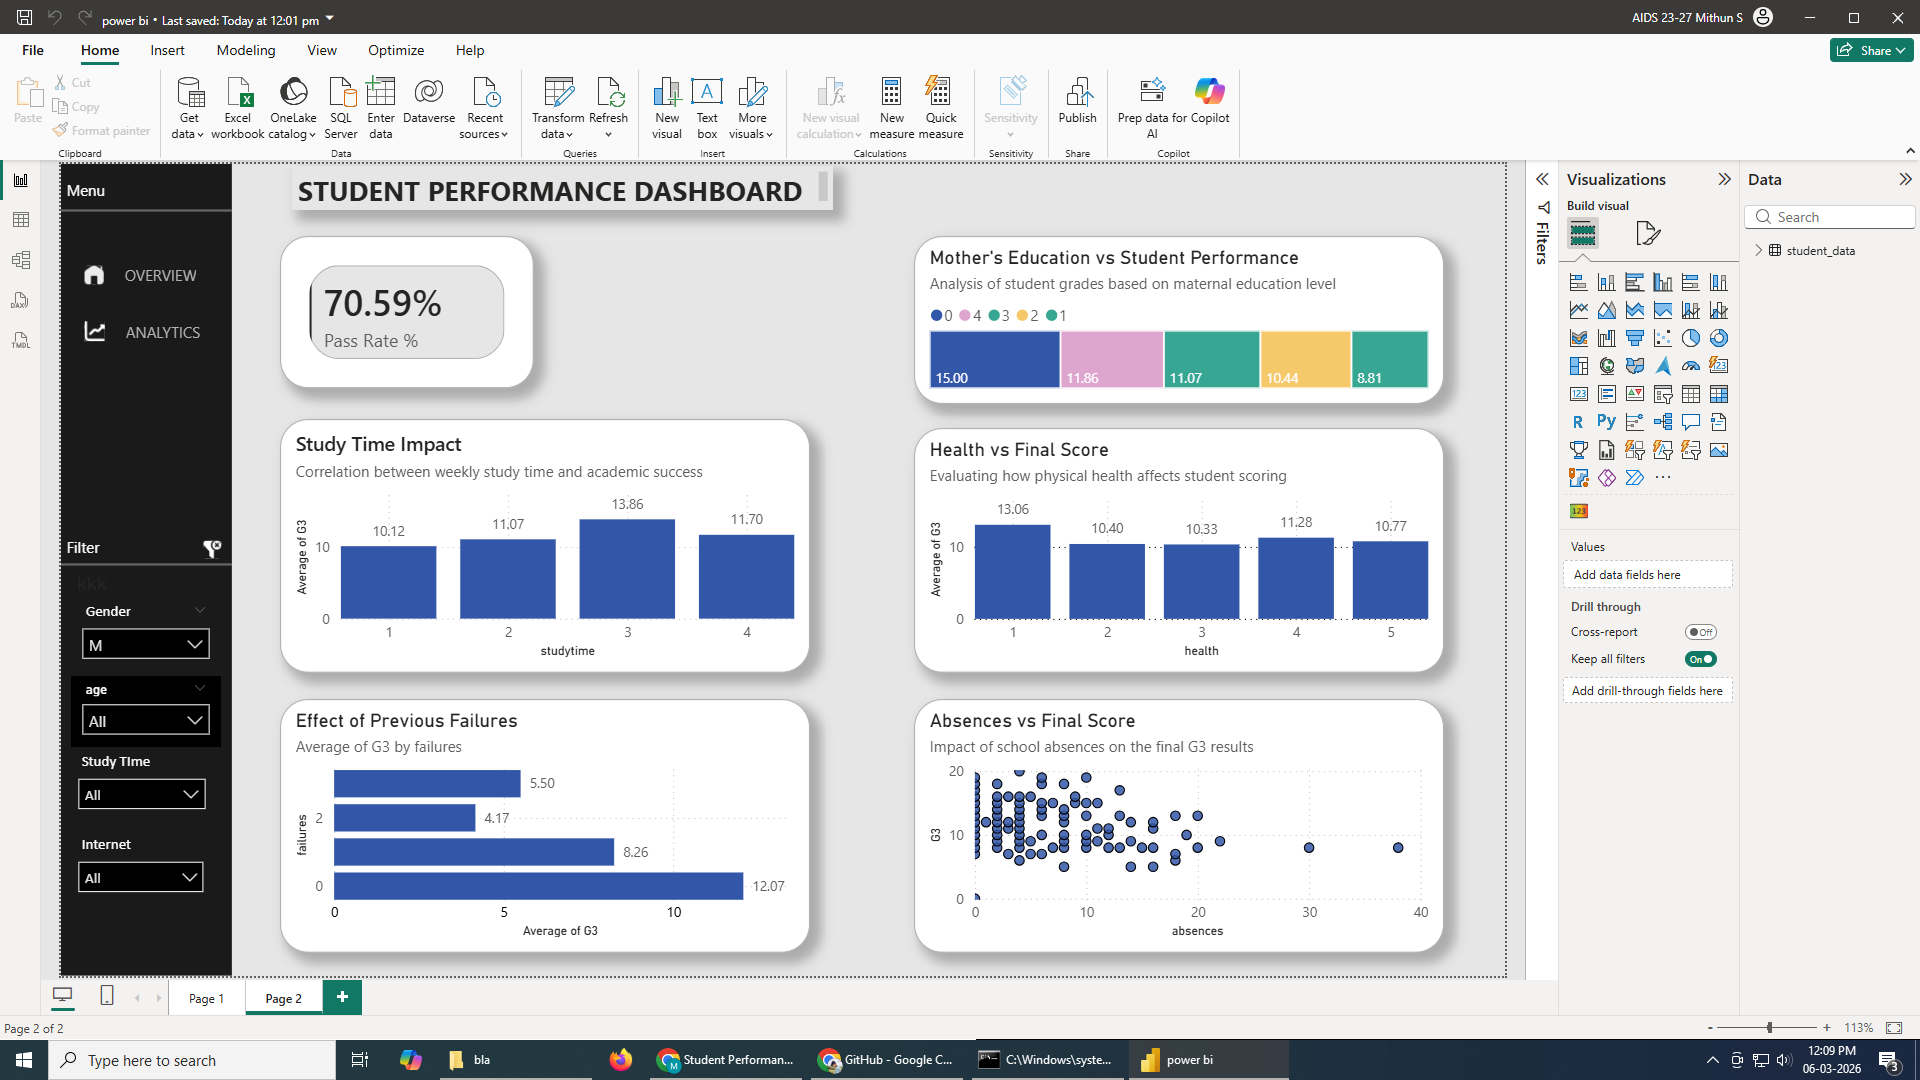

The dashboard page shown, as its layout file describes it:
{"tool":"powerbi","page":{"name":"Page 2","canvas":[1280,720],"ordinal":1},"visuals":[{"type":"textbox","box":[204.8,1.8,479.7,39],"z":0},{"type":"actionButton","box":[9,79,150.2,38.5],"z":0,"group":"g1"},{"type":"slicer","title":"kkk","fields":{"Values":["student_data.sex"]},"box":[8.5,361.8,132.6,93.6],"z":0,"group":"g2"},{"type":"shape","box":[0,0,151.5,719.7],"z":1000},{"type":"actionButton","box":[16.8,131.5,139.3,34.5],"z":1000,"group":"g1"},{"type":"slicer","fields":{"Values":["student_data.age"]},"box":[8.4,454.2,132.6,63.5],"z":1000,"group":"g2"},{"type":"actionButton","box":[92.5,321.9,62.4,40.1],"z":2000},{"type":"slicer","fields":{"Values":["student_data.internet"]},"box":[5.3,589.8,131.5,63.5],"z":2000,"group":"g2"},{"type":"shape","box":[0,342,151.5,25.6],"z":3000},{"type":"slicer","fields":{"Values":["student_data.studytime"]},"box":[5.3,516.3,132.6,80.2],"z":3000,"group":"g2"},{"type":"shape","box":[0,0,151.5,82.4],"z":4000},{"type":"textbox","box":[0,326.4,57.9,29],"z":5000},{"type":"textbox","box":[0,10,151.5,39],"z":6000},{"type":"group","id":"g1","title":"Group 2","box":[9,79,150.2,87],"z":7000},{"type":"columnChart","title":"Study Time Impact","fields":{"Category":["student_data.studytime"],"Y":["Avg(student_data.G3)"]},"box":[193.8,226.1,470.1,225],"z":8000},{"type":"scatterChart","title":"Absences vs Final Score","fields":{"X":["student_data.absences"],"Y":["student_data.G3"]},"box":[756.4,474.6,470.1,225],"z":9000},{"type":"clusteredBarChart","title":"Effect of Previous Failures","fields":{"Category":["student_data.failures"],"Y":["Avg(student_data.G3)"]},"box":[193.8,474.6,470.1,225],"z":10000},{"type":"cardVisual","fields":{"Data":["student_data.Pass Rate %"]},"box":[193.8,63.5,225,135],"z":11000},{"type":"group","id":"g2","title":"Group 1","box":[5.3,361.8,136.6,292.6],"z":12000},{"type":"clusteredColumnChart","title":"Health vs Final Score","fields":{"Category":["student_data.health"],"Y":["Avg(student_data.G3)"]},"box":[756.4,233.9,470.1,217.2],"z":13000},{"type":"treemap","title":"Mother''s Education vs Student Performance","fields":{"Group":["student_data.Medu"],"Values":["Avg(student_data.G3)"]},"box":[756.4,63.5,470.1,149.3],"z":14000}]}

Visuals, with their boxes on the page's 1280x720 design canvas (x1, y1, x2, y2). These are canvas units, not pixel positions in the 1920x1080 screenshot, which may show the page scaled, cropped or inside an application window:
textbox: (205,2,684,41)
actionButton: (9,79,159,118)
"kkk" slicer: (8,362,141,455)
shape: (0,0,152,720)
actionButton: (17,132,156,166)
slicer - student_data.age: (8,454,141,518)
actionButton: (92,322,155,362)
slicer - student_data.internet: (5,590,137,653)
shape: (0,342,152,368)
slicer - student_data.studytime: (5,516,138,596)
shape: (0,0,152,82)
textbox: (0,326,58,355)
textbox: (0,10,152,49)
"Group 2" group: (9,79,159,166)
"Study Time Impact" columnChart: (194,226,664,451)
"Absences vs Final Score" scatterChart: (756,475,1226,700)
"Effect of Previous Failures" clusteredBarChart: (194,475,664,700)
cardVisual - student_data.Pass Rate %: (194,64,419,198)
"Group 1" group: (5,362,142,654)
"Health vs Final Score" clusteredColumnChart: (756,234,1226,451)
"Mother''s Education vs Student Performance" treemap: (756,64,1226,213)
